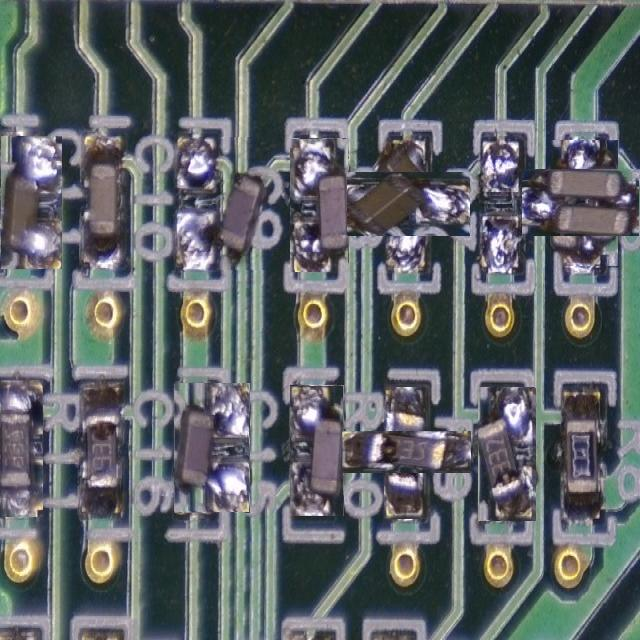Incorrect_installation: (176, 137, 265, 270), (175, 384, 248, 511), (0, 135, 62, 269), (341, 173, 469, 235), (522, 170, 640, 235), (291, 138, 347, 272), (479, 388, 534, 520), (291, 385, 342, 516), (0, 380, 43, 516), (340, 431, 470, 472)
